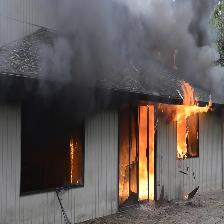fire: (136, 106, 155, 197), (179, 97, 201, 157)
smoke: (45, 5, 218, 85)
